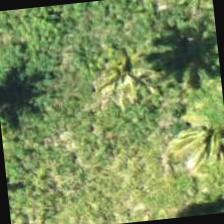Kelapa_Sawit: (70, 50, 169, 148), (170, 133, 223, 217)
